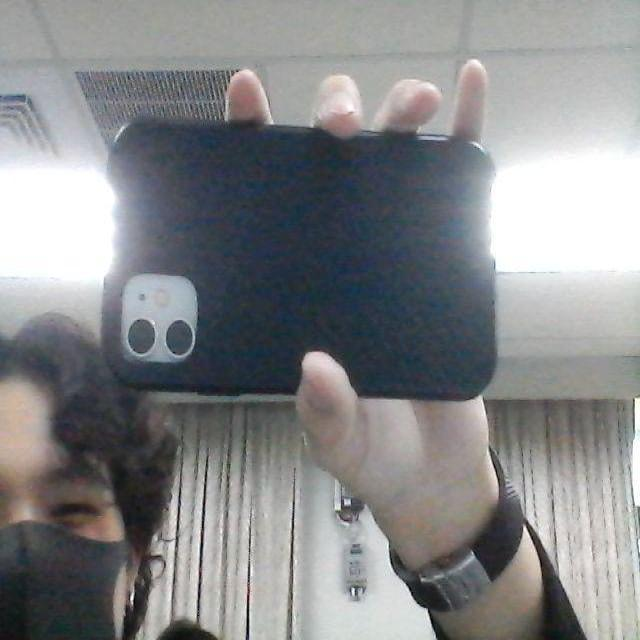smart phone: (96, 111, 536, 402)
